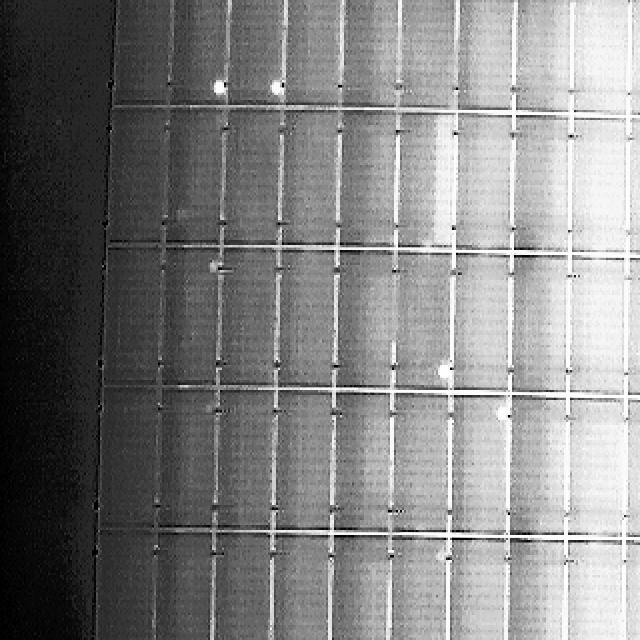Hotspots: (209, 75, 229, 101), (433, 360, 453, 385), (268, 75, 286, 102), (491, 402, 510, 426)
PV-modules: (342, 109, 404, 250), (272, 393, 333, 535), (447, 251, 508, 392), (276, 247, 337, 388), (510, 395, 570, 538), (220, 389, 280, 532), (100, 386, 160, 529), (338, 391, 398, 534), (446, 394, 506, 536), (340, 248, 400, 390), (158, 246, 218, 387), (156, 388, 215, 531), (280, 109, 340, 249), (566, 396, 625, 538), (223, 245, 282, 387), (104, 244, 162, 388), (514, 114, 573, 254), (225, 108, 284, 248), (512, 253, 571, 393), (393, 393, 451, 535), (567, 255, 626, 394), (109, 106, 168, 245), (395, 250, 453, 391), (163, 107, 221, 246), (569, 114, 627, 253), (452, 112, 509, 252), (398, 111, 455, 250), (516, 1, 575, 117), (570, 0, 629, 116), (96, 527, 156, 640), (152, 527, 212, 640), (442, 532, 504, 640), (399, 1, 458, 113), (216, 530, 276, 640), (340, 0, 400, 110), (222, 1, 282, 110), (452, 0, 510, 112), (388, 532, 448, 640), (334, 532, 394, 640), (114, 1, 174, 109), (268, 532, 328, 640), (282, 0, 342, 107), (508, 535, 568, 640), (562, 537, 622, 640), (167, 0, 224, 106), (626, 398, 640, 538), (628, 255, 640, 395), (626, 537, 640, 640), (628, 0, 640, 120), (630, 115, 640, 255)
